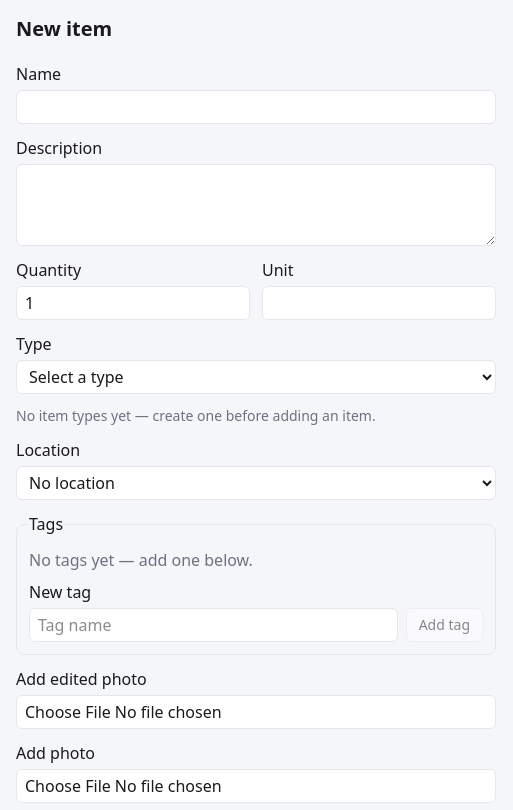
catalog pages › the create page › explains why an item cannot be created when the instance has no types
expect the text "No item types yet — create one before adding an item." is shown: met, box [16,406,376,425]
expect the dropdown labelled "Type" is disabled: met, box [16,360,496,394]
Type "Lamp" into the field labelled "Name".
click(256, 107); type("Lamp")  # box [16,90,496,124]
(page scrolled)
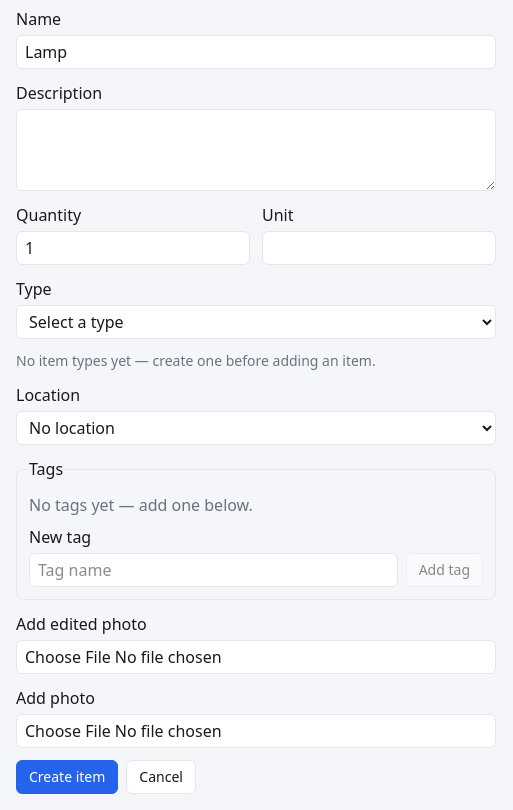
Click the button "Create item".
click(67, 777)  # box [16,760,118,794]
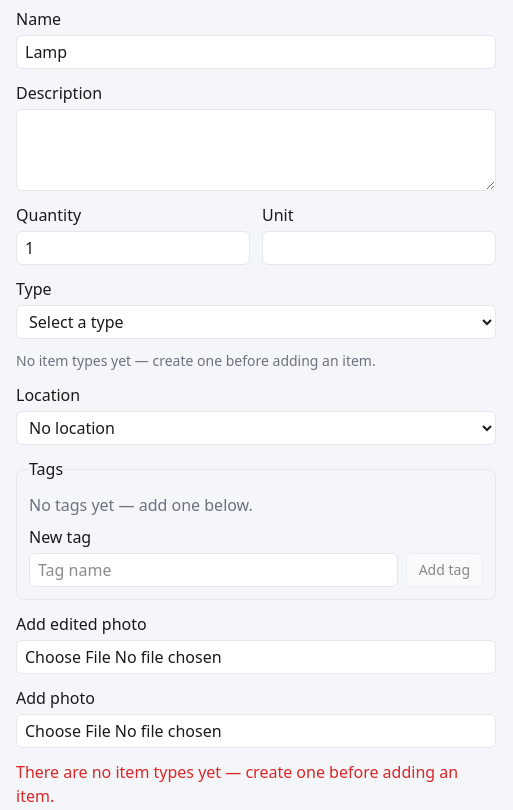
expect the message shows "no item types yet": met, box [16,761,458,807]
